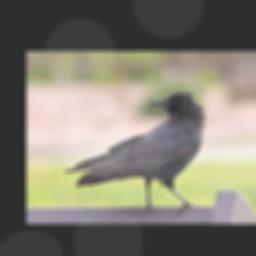Crow: (62, 91, 207, 215)
